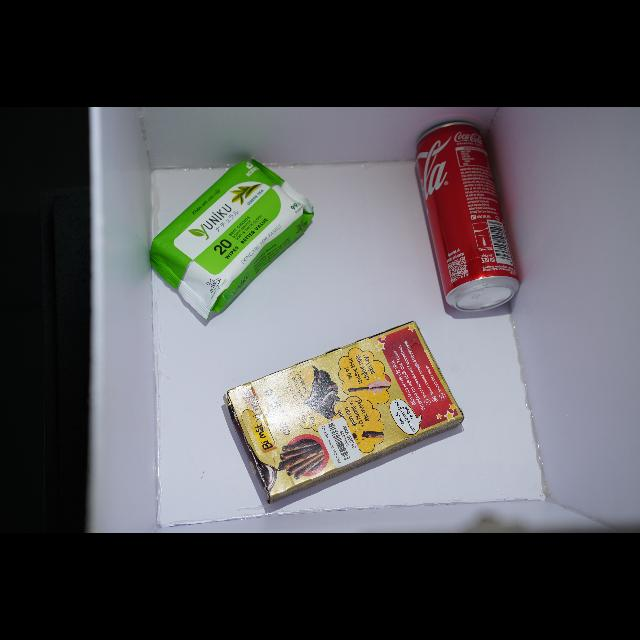banh_toppo_socola: (226, 322, 464, 501)
coca_cola: (416, 122, 520, 311)
khan_giay: (150, 160, 314, 319)
